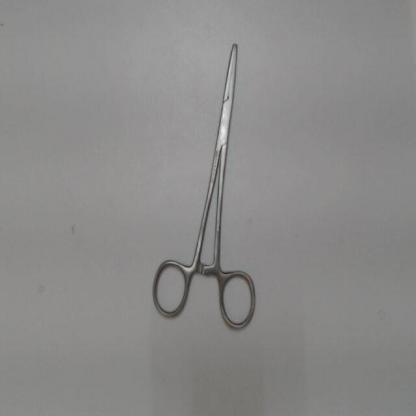Mayo Needle Holder: (145, 27, 266, 339)
